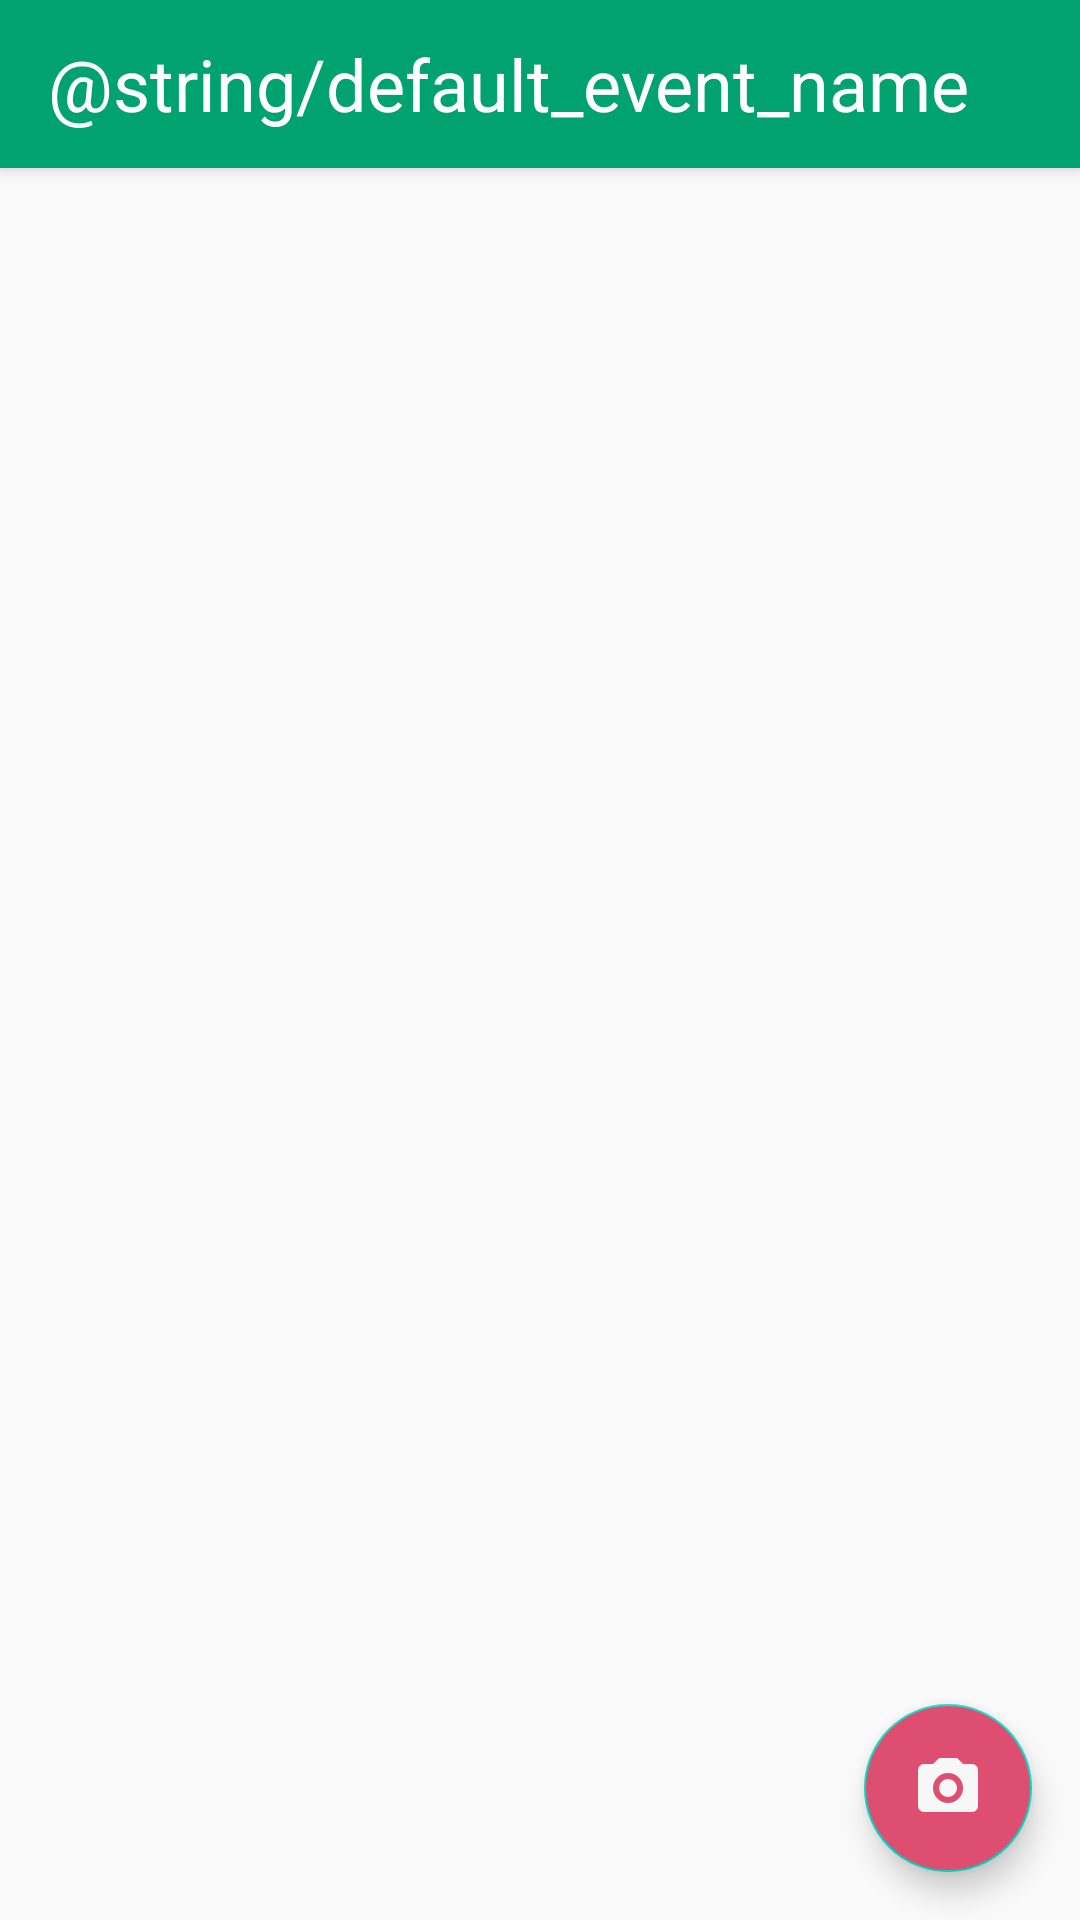

Screen size 1080 × 1920. Icon name, then its box in pixels as [left=x1, top=y1, right=x2, bottom=y2]:
camera: [left=864, top=1704, right=1032, bottom=1872]
